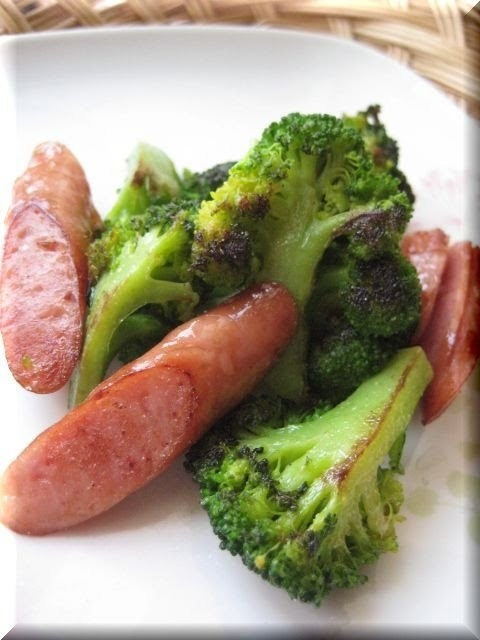background: (0, 103, 360, 609)
